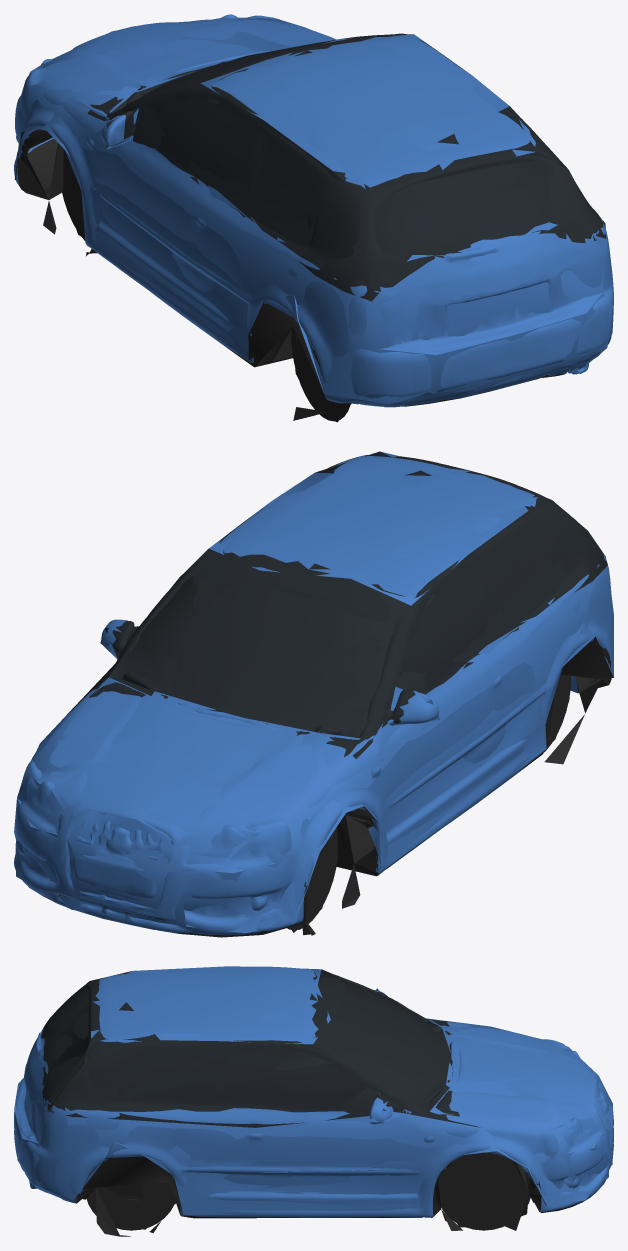
File: audi-s3.glb
3 renders of one model, top to bottom at view 1: azimuth 30°, elevation 25°; view 2: azimuth 150°, elevation 25°; view 3: azimuth 270°, elevation 25°, orthographic. The views are drawn at different scales.
Visible parts, largest first — view 1: body, far; view 2: body, far; view 3: body, far.
Part boxes in pixels (x1,y1,x2,y2): body: (14,14,613,421); far: (14,17,612,422); body: (14,455,612,937); far: (14,451,613,935); body: (14,966,613,1236); far: (14,966,612,1234).
Bounding box in the file's own units: 2.21 × 1.62 × 4.51.
